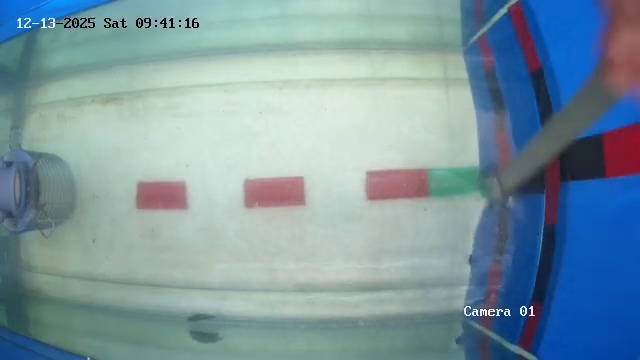fish: (184, 310, 228, 329)
